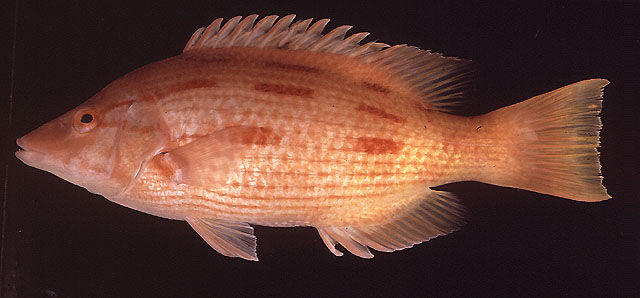fish: (11, 14, 613, 261)
